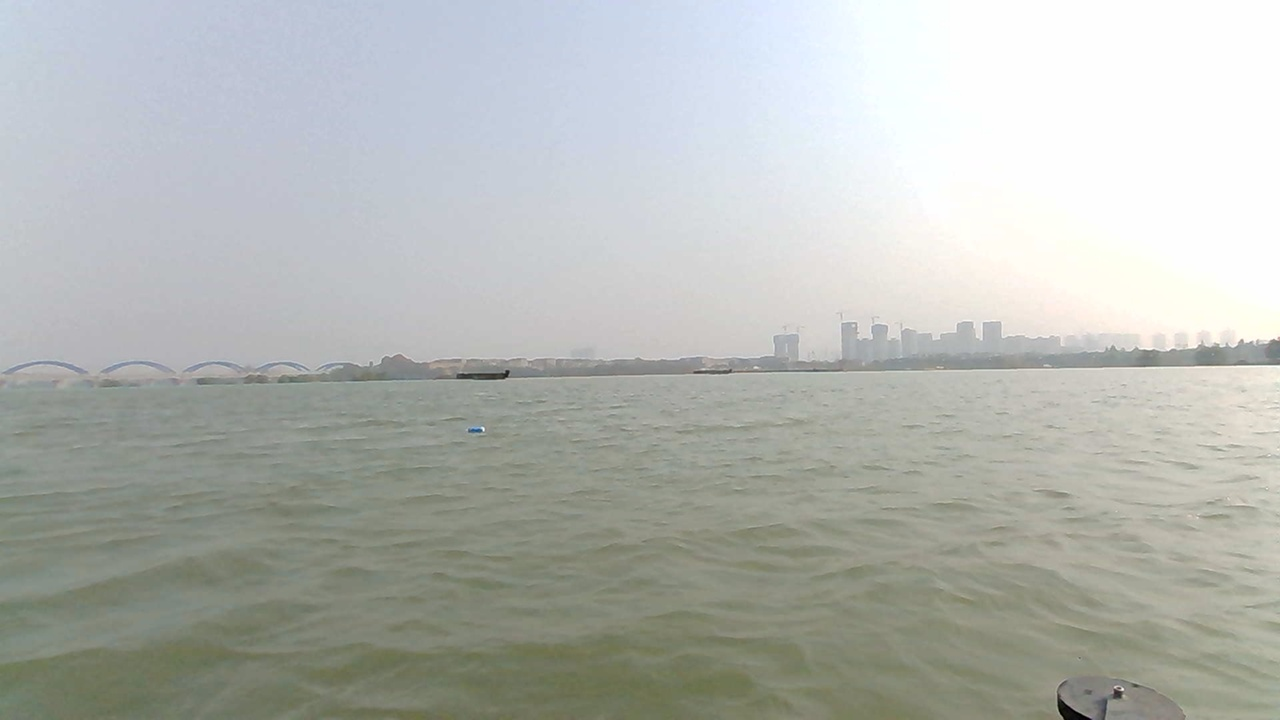bottle: (461, 423, 491, 438)
